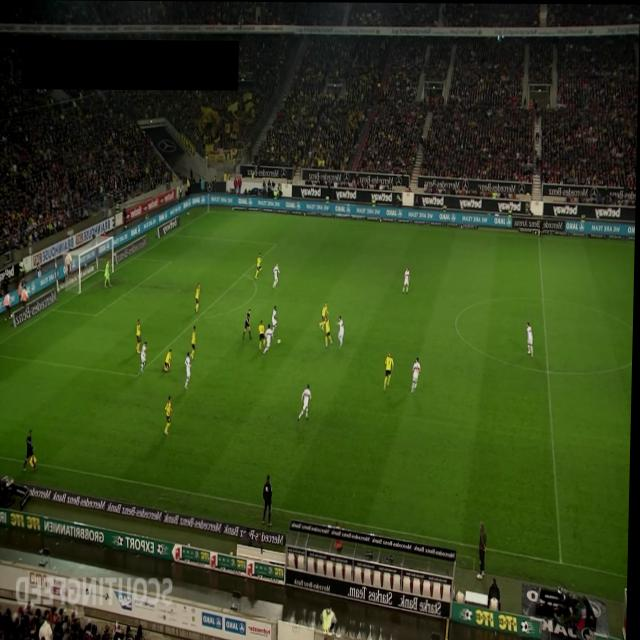goalkeeper: (104, 260, 114, 288)
player: (300, 383, 314, 421), (321, 313, 336, 347), (385, 349, 396, 393), (165, 395, 174, 435), (185, 351, 194, 389), (413, 356, 422, 393), (265, 323, 275, 355), (338, 315, 347, 349), (140, 341, 149, 373), (527, 321, 535, 357), (255, 252, 264, 280), (259, 319, 267, 350), (403, 266, 411, 294), (273, 305, 280, 335), (273, 262, 281, 288), (137, 319, 143, 353), (192, 325, 198, 359), (196, 282, 202, 313), (166, 349, 174, 371), (323, 301, 330, 321)
referee: (25, 429, 41, 471), (244, 308, 254, 341), (539, 215, 545, 237)
